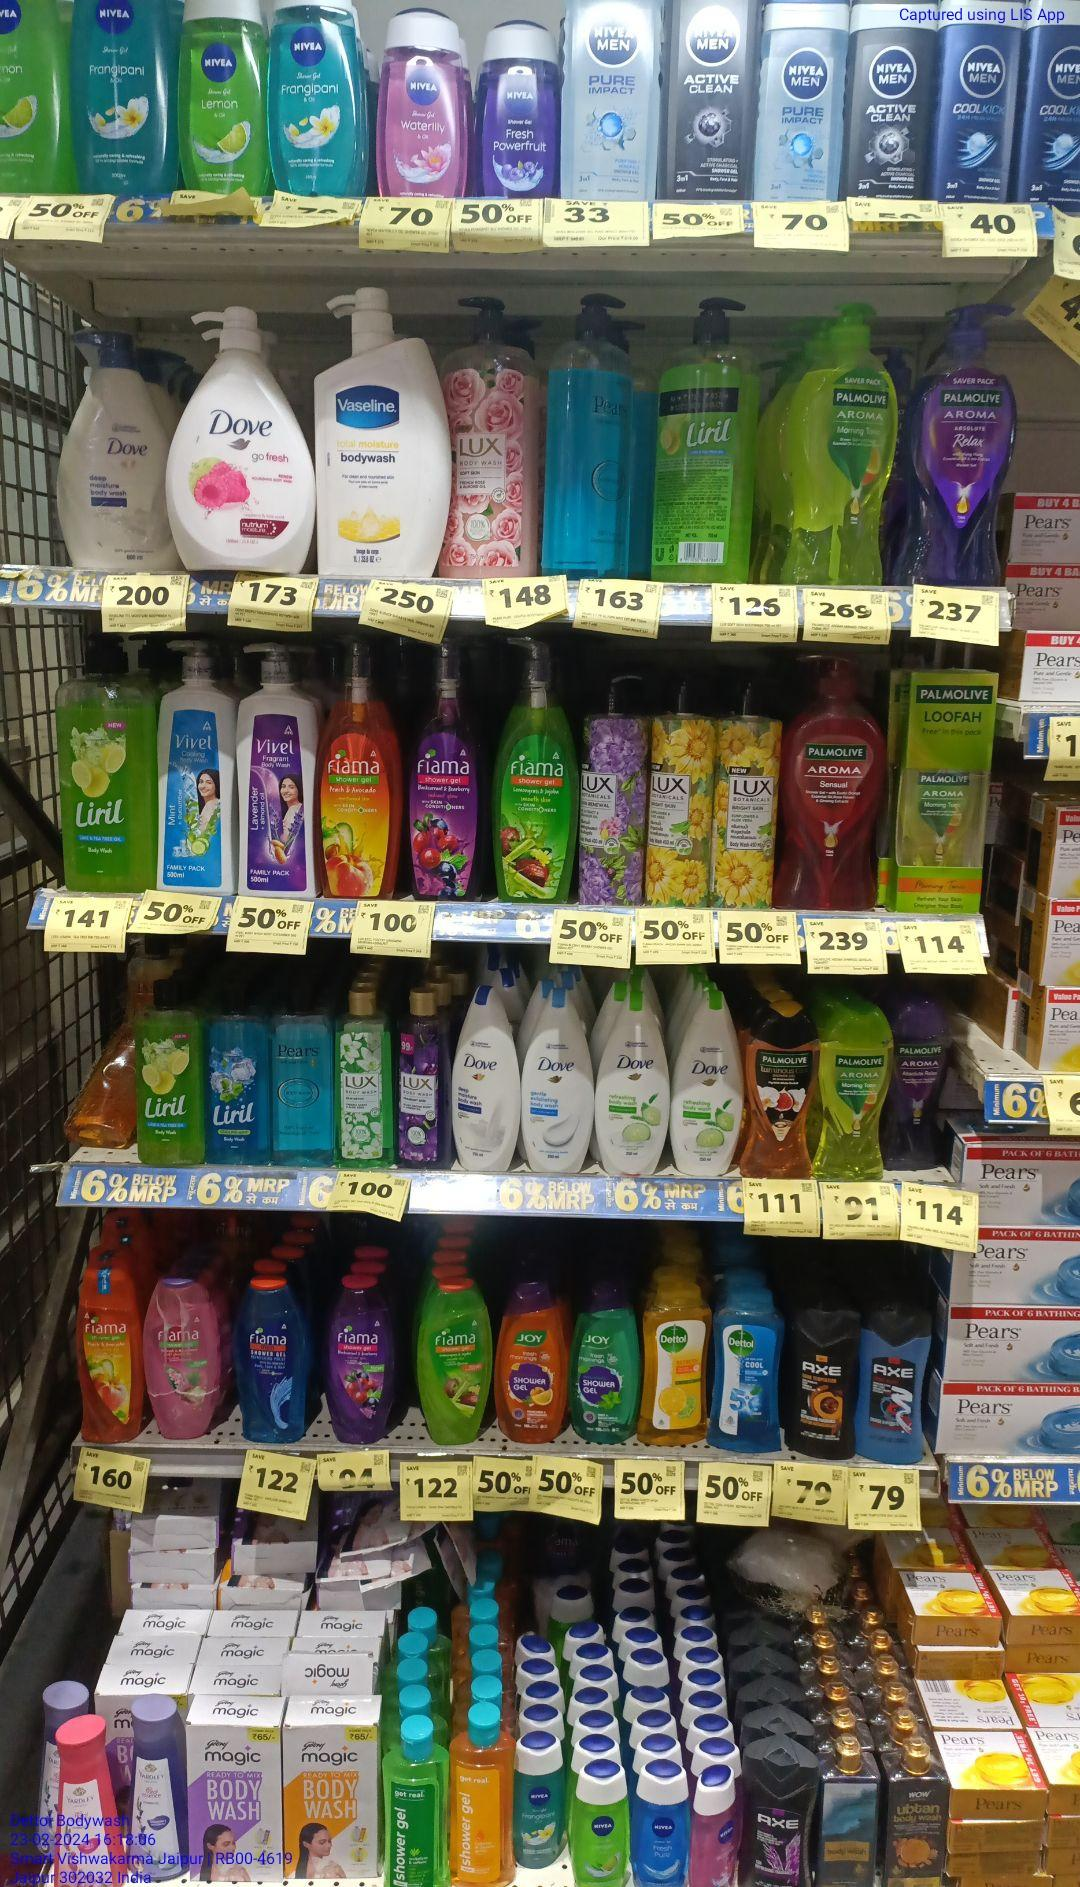Dove_Deep_Moisture_Body_Wash_250ML: (452, 985, 519, 1172)
Dove_Gentle_Exfoliating_Body_Wash_250ML: (517, 985, 589, 1173)
Dove_Refreshing_Body_Wash_250ML: (596, 993, 665, 1179), (668, 997, 738, 1175)
Liril_Cooling_Mint_Body_Wash_250ML: (205, 975, 272, 1165)
Liril_Lime_and_Tea_Tree_Oil_Body_Wash_250ML: (136, 980, 205, 1168)
Lux_Black_Orchid_Scent_and_Juniper_Oil_Body_Wash_245ML: (395, 986, 451, 1168)
Lux_Body_Wash_Skin_Detox_Freesia_Scent_and_Alove_Vera_245ML: (336, 978, 393, 1168)
Nivea_Shower_Gel_Frangipani_and_Oil_250ML: (74, 0, 176, 194), (267, 0, 367, 198)
Nivea_Shower_Gel_Fresh_Powerfruit_250ML: (480, 16, 556, 198)
Nivea_Shower_Gel_Lemon_and_Oil_250ML: (180, 0, 270, 198)
Nivea_Shower_Gel_Waterlily_and_Oil_250ML: (376, 3, 462, 193)
Palmolive_Aroma_Morning_Tonic_Shower_Gel_250ML: (814, 997, 884, 1182)
Palmolive_Aroma_Relax_250ML: (892, 998, 941, 1166)
Palmolive_Luminous_Oils_With_White_Orchid_Shower_Gel_250ML: (742, 1003, 816, 1175)
Pears_Pure_Glycerin_and_Mint_Extracts_Body_Wash_250ML: (272, 972, 336, 1168)
